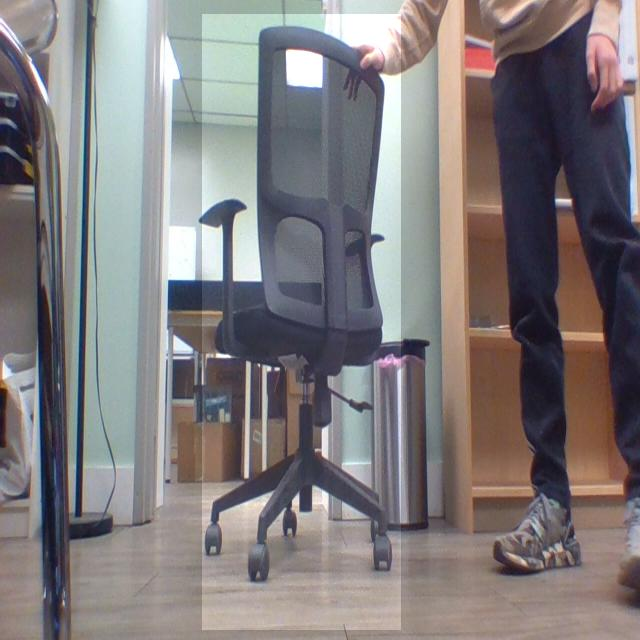black-chair: (202, 14, 402, 631)
